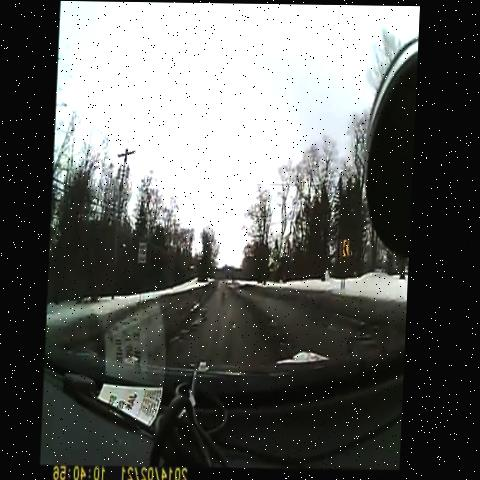pothole: (272, 326, 302, 359), (256, 303, 287, 334)
